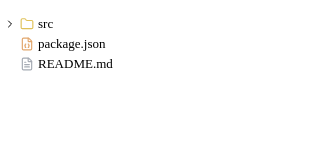
Test case: FileTreePanel › collapses a directory on second click
Click the text "src": (46, 24) [38,16,53,32]
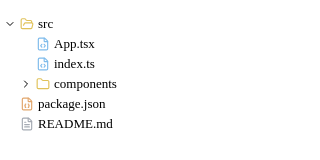
Now the text "App.tsx" is shown, box [54,36,95,52]
Click the text "src": (46, 24) [38,16,53,32]
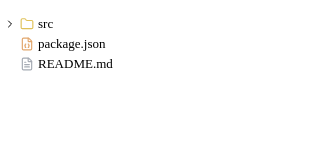
Now the text "App.tsx" is gone
